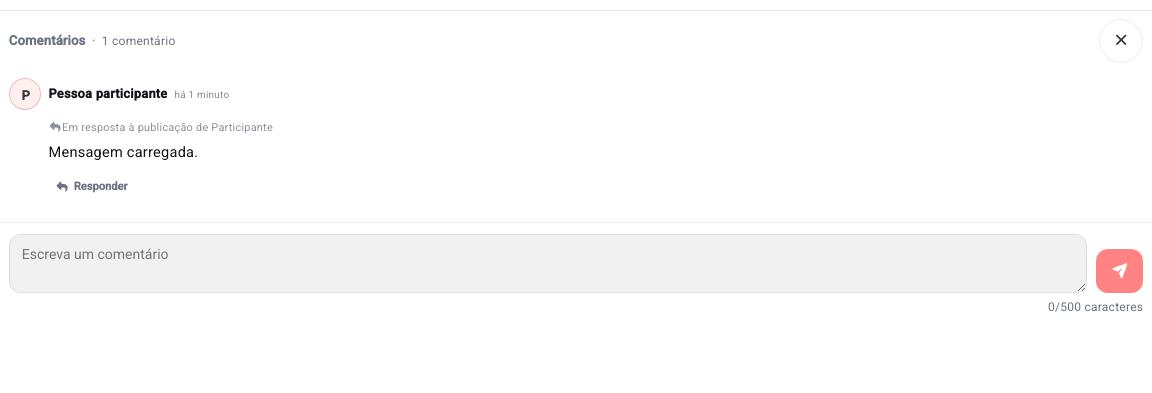
Test: CommunityFeedCommentsComponent › oferece Responder somente na mensagem e abre uma citação no compositor
Click the button "Responder": (91, 187) [48,165,134,209]
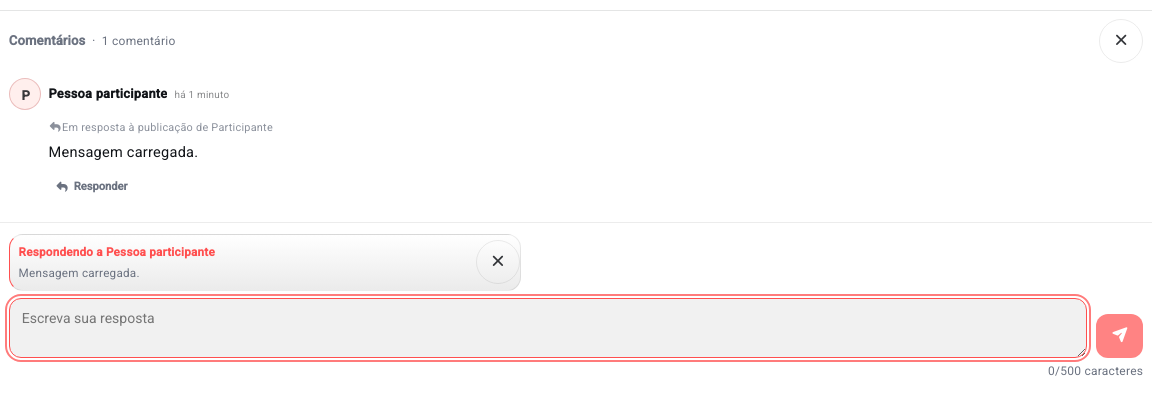
Check: the text "Mensagem carregada." is shown, box [48,143,198,161]
Check: the text "Respondendo a Pessoa participante" is shown, box [19,245,215,259]
